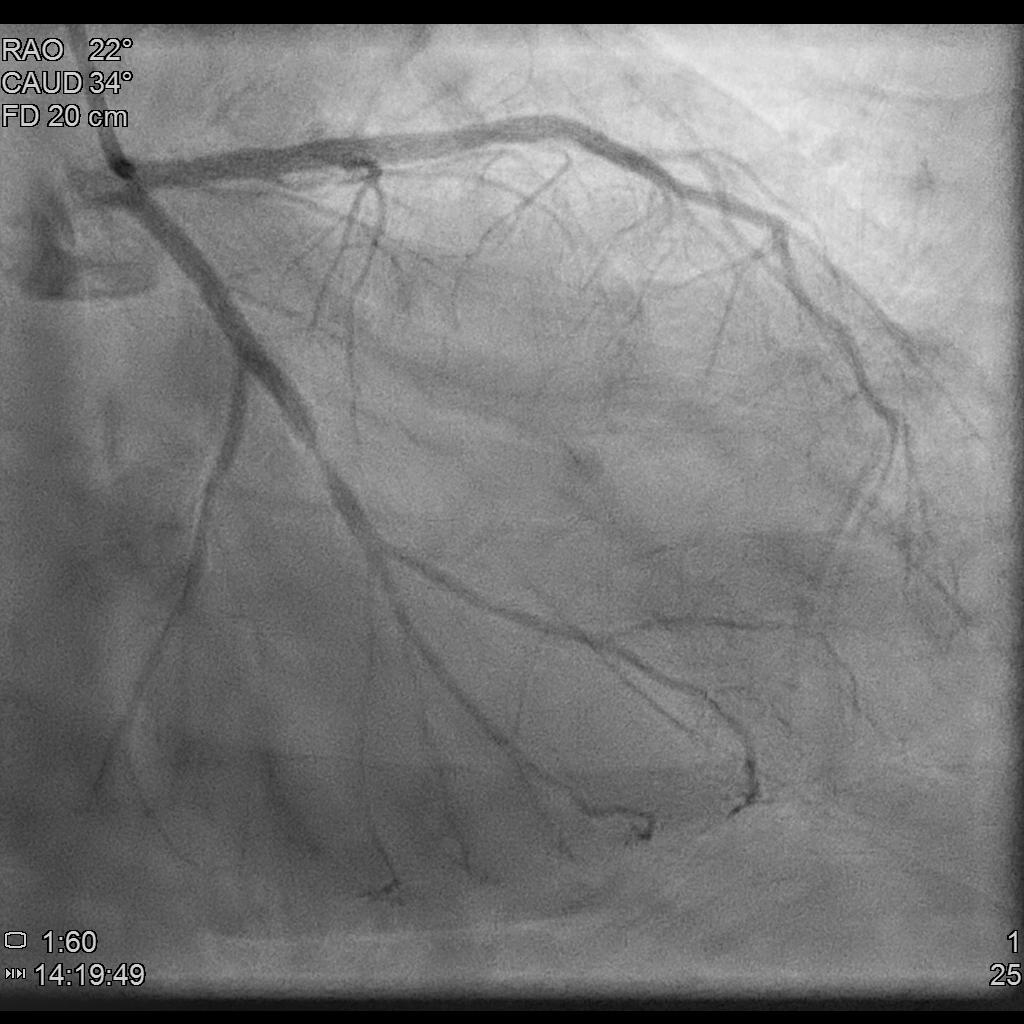block: (278, 414, 369, 492)
